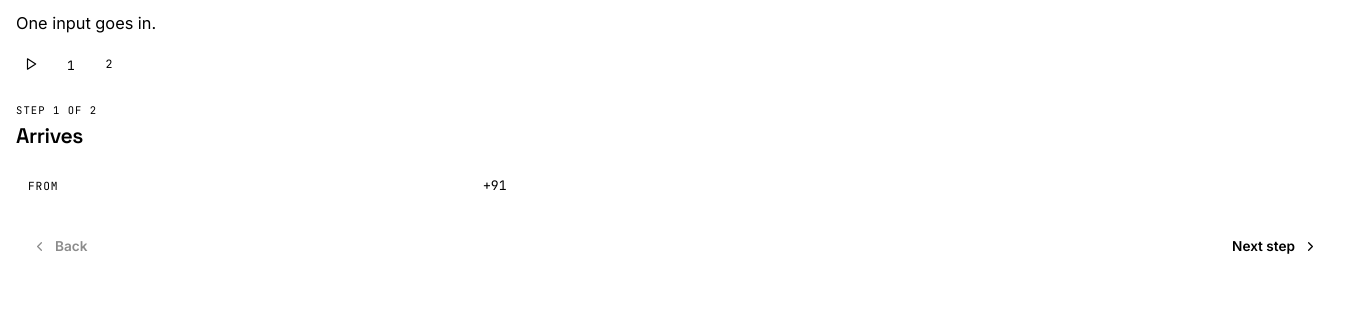
WorkedExample › steps through states and shows the outcome only at the end
Expected: the heading "Arrives" is shown, [16,122,83,149]
Expected: the text "+91" is shown, [483,178,507,194]
Click the button "Next step".
click(1275, 246)  # box [1216,226,1334,266]
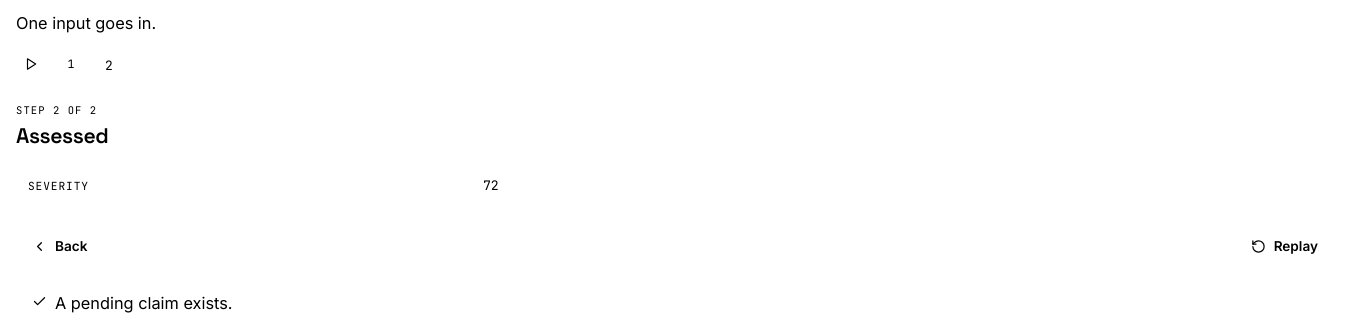
Now the heading "Assessed" is shown, box [16,122,108,149]
Now the text "72" is shown, box [483,178,499,194]
Now the text "A pending claim exists." is shown, box [55,290,232,317]
Note: replay returns to step 1
Click the button "Replay".
click(1284, 246)  # box [1235,226,1334,266]
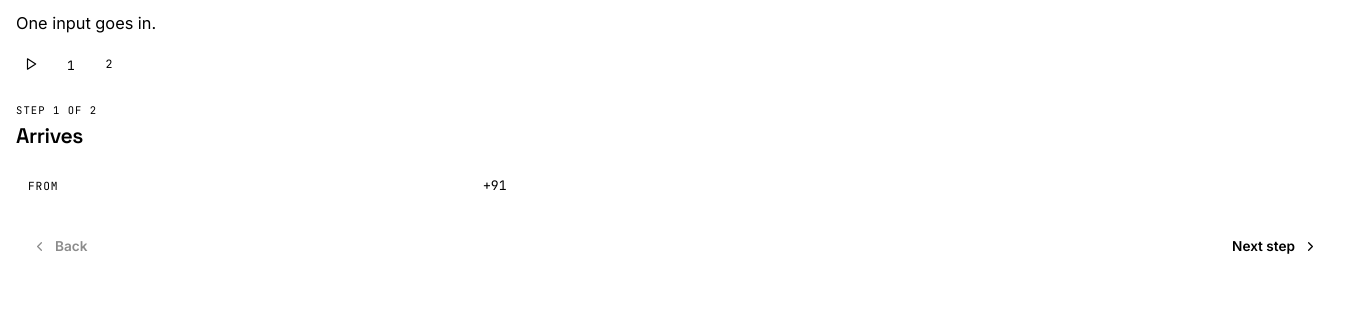
Now the heading "Arrives" is shown, box [16,122,83,149]
